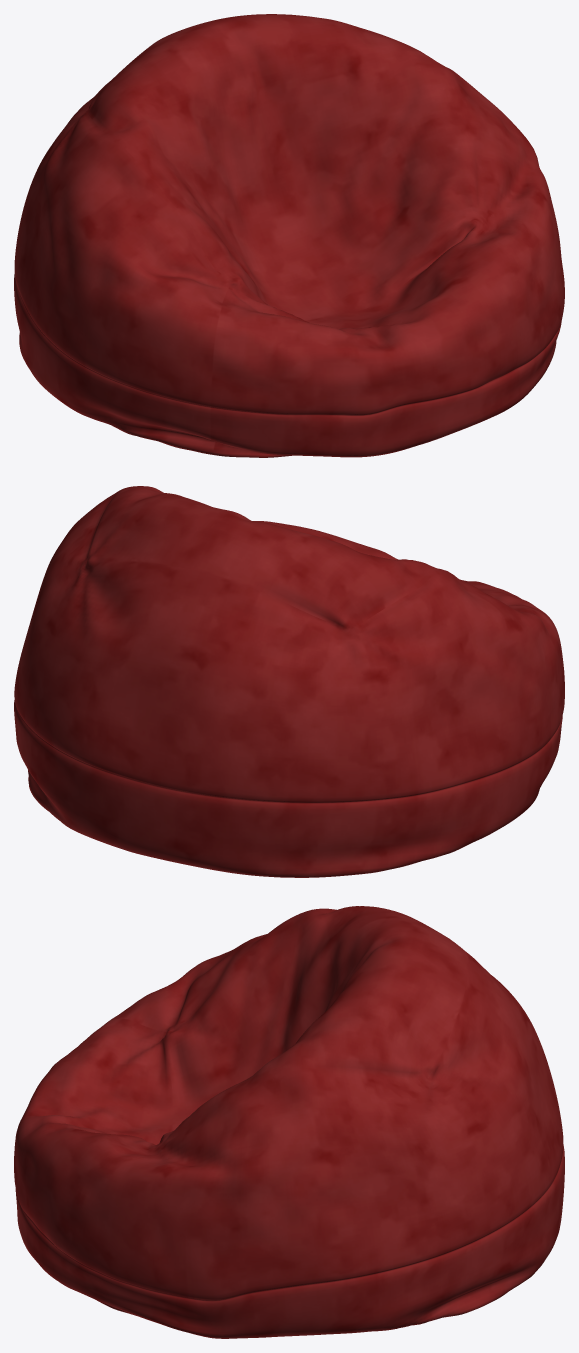
Rendered from sofar.glb.
3 renders of one model, top to bottom at view 1: azimuth 30°, elevation 25°; view 2: azimuth 150°, elevation 25°; view 3: azimuth 270°, elevation 25°, orthographic.
Parts seen in each view (by area): view 1: Cube; view 2: Cube; view 3: Cube.
Part boxes in pixels (x1=…): Cube: x1=14, y1=14, x2=564, y2=457; Cube: x1=14, y1=486, x2=564, y2=877; Cube: x1=14, y1=906, x2=564, y2=1338.
Bounding box in the file's own units: 1.72 × 1.01 × 1.72.
1 material, 1 textured.
